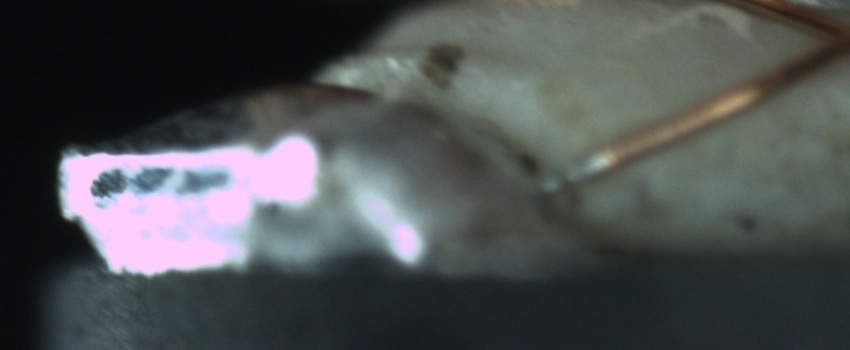CL: (798, 4, 850, 68)
TS: (540, 149, 616, 193)
